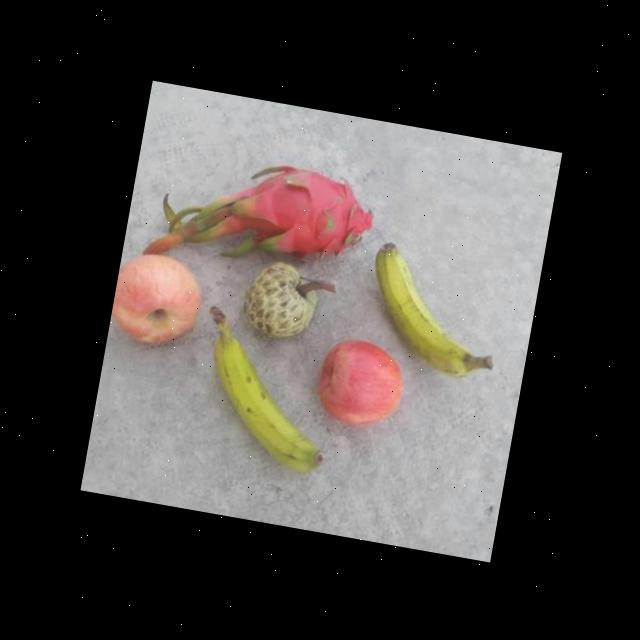Sakya fruit: (233, 253, 325, 348)
apple: (106, 248, 210, 352), (312, 331, 412, 434)
banana: (182, 302, 348, 478), (354, 238, 514, 389)
pitaya: (230, 152, 382, 277)
